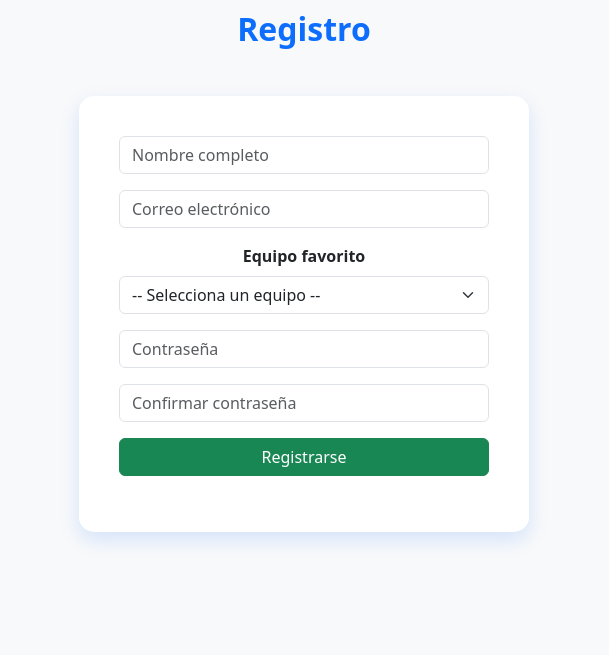
Test case: Registro - pruebas unitarias básicas › guarda en localStorage y muestra mensaje de éxito al registrarse correctamente
Step 1. Type "Juan Pérez" into the field with placeholder "Nombre completo" → (304, 155), box [119, 136, 489, 174]
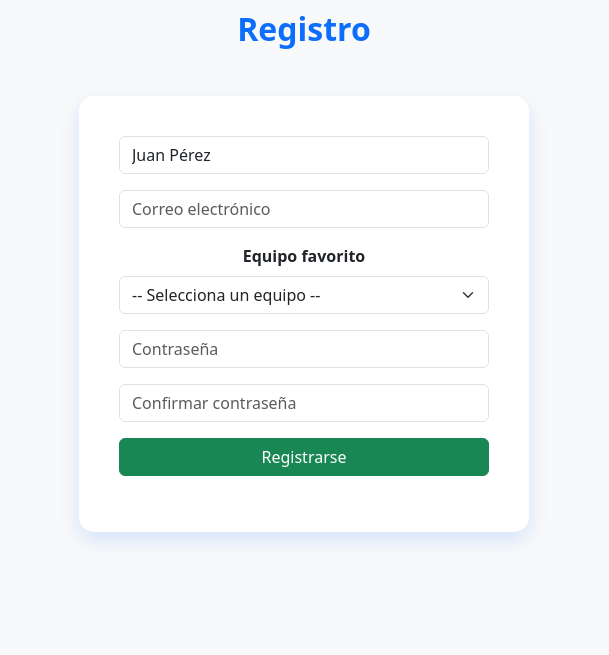
Step 2. Type "juan@test.com" into the field with placeholder "Correo electrónico" → (304, 209), box [119, 190, 489, 228]
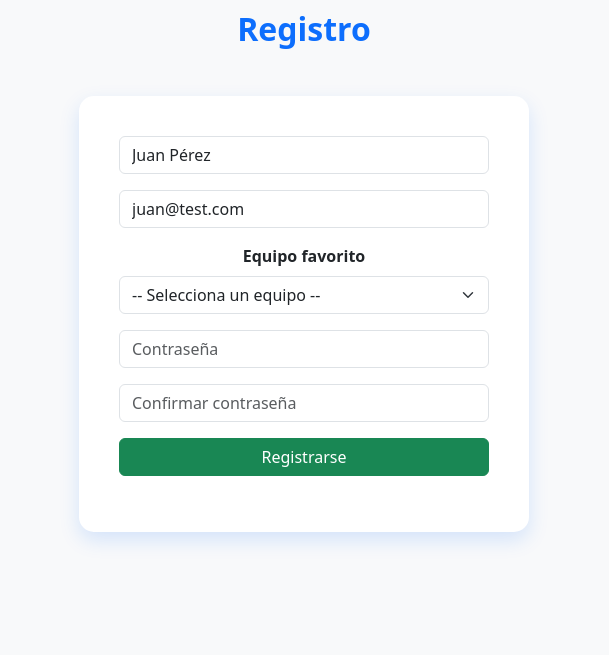
Step 3. Select "Cobresal" in the dropdown labelled "Equipo favorito" → (304, 295), box [119, 276, 489, 314]
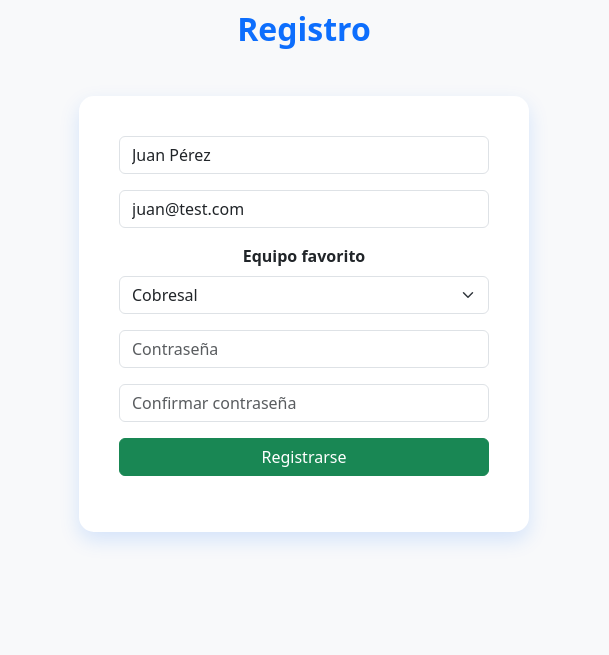
Step 4. Type "Password123" into the password field with placeholder "Contraseña" → (304, 349), box [119, 330, 489, 368]
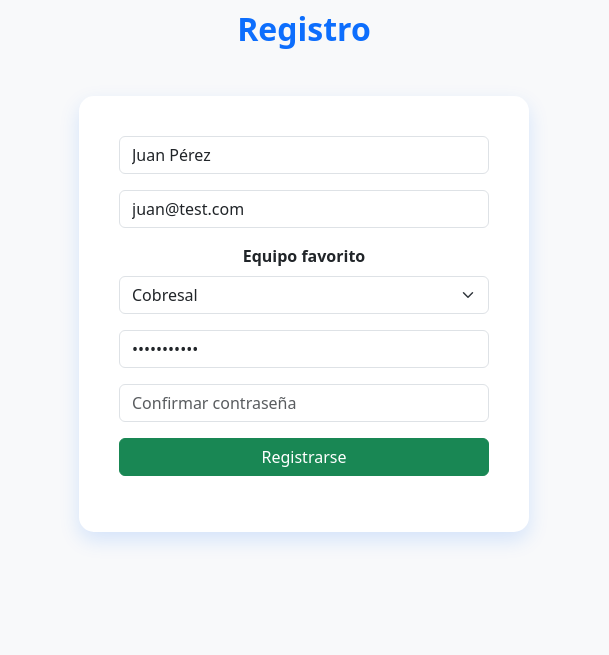
Step 5. Type "Password123" into the password field with placeholder "Confirmar contraseña" → (304, 403), box [119, 384, 489, 422]
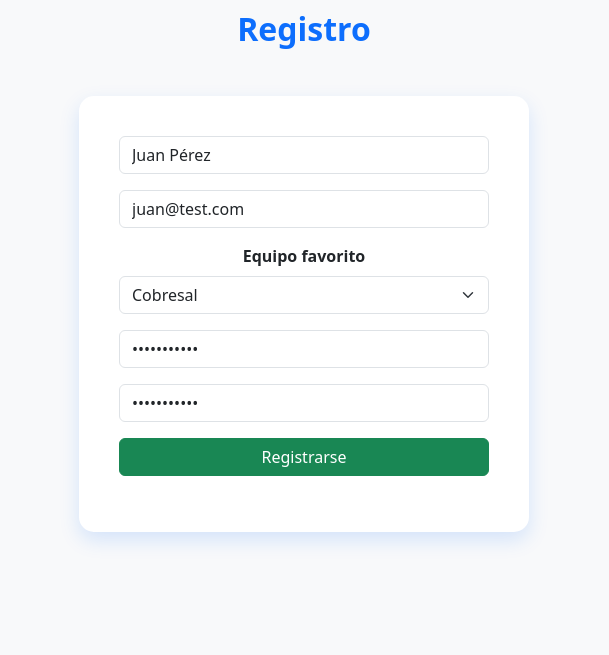
Step 6. Click the button "Registrarse" → (304, 457), box [119, 438, 489, 476]
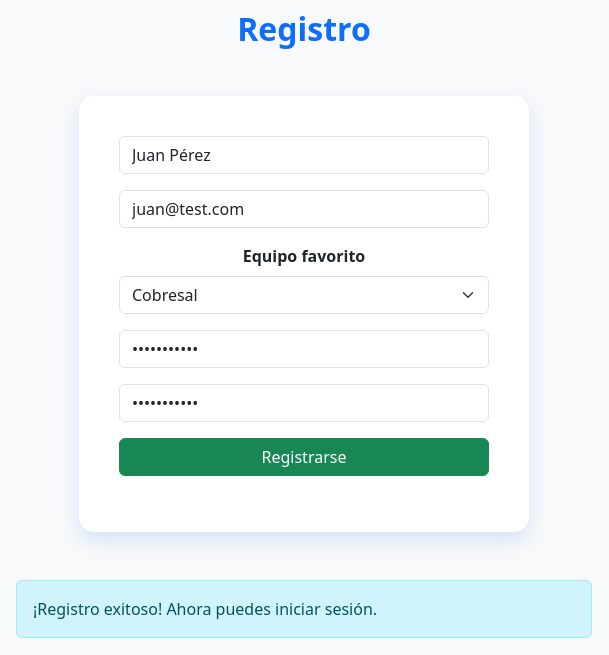
Result: the text "¡Registro exitoso! Ahora puedes iniciar sesión." is shown at [16, 580, 592, 638]
